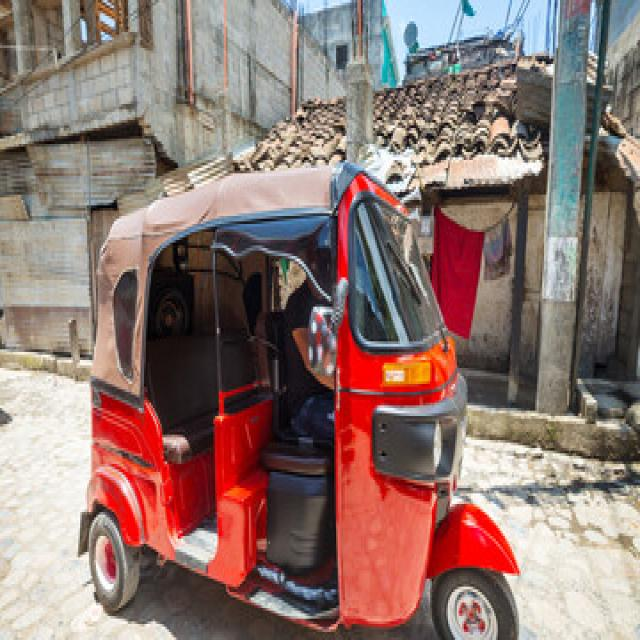person: (284, 280, 332, 456)
three wheeler: (80, 163, 517, 637)
